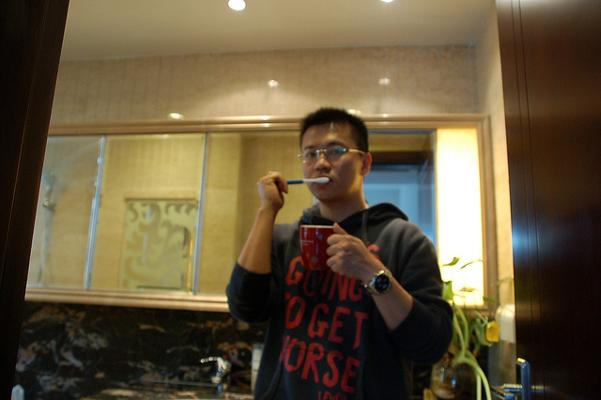person: (227, 107, 454, 400)
